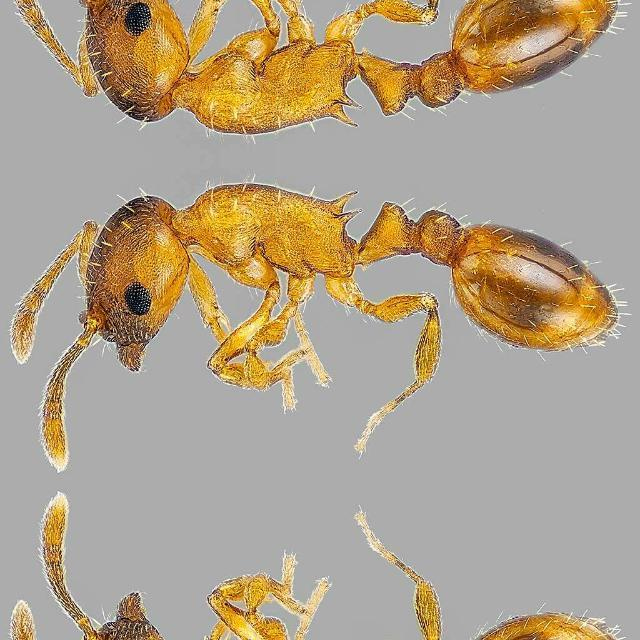Temnothorax: (1, 162, 626, 434), (0, 0, 625, 152), (1, 528, 626, 640)
